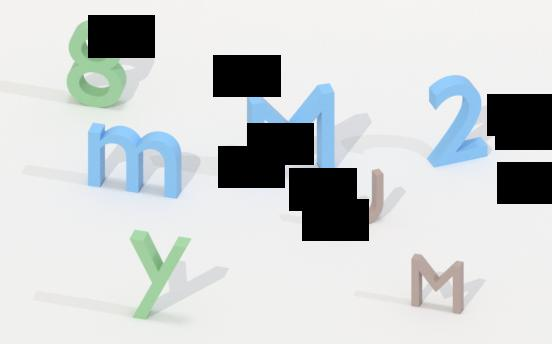2: (422, 74, 493, 169)
8: (61, 20, 131, 112)
M-hoa: (237, 88, 337, 185), (409, 250, 468, 315)
Y: (120, 226, 192, 323)
m: (85, 119, 184, 201)
u: (331, 166, 392, 230)
